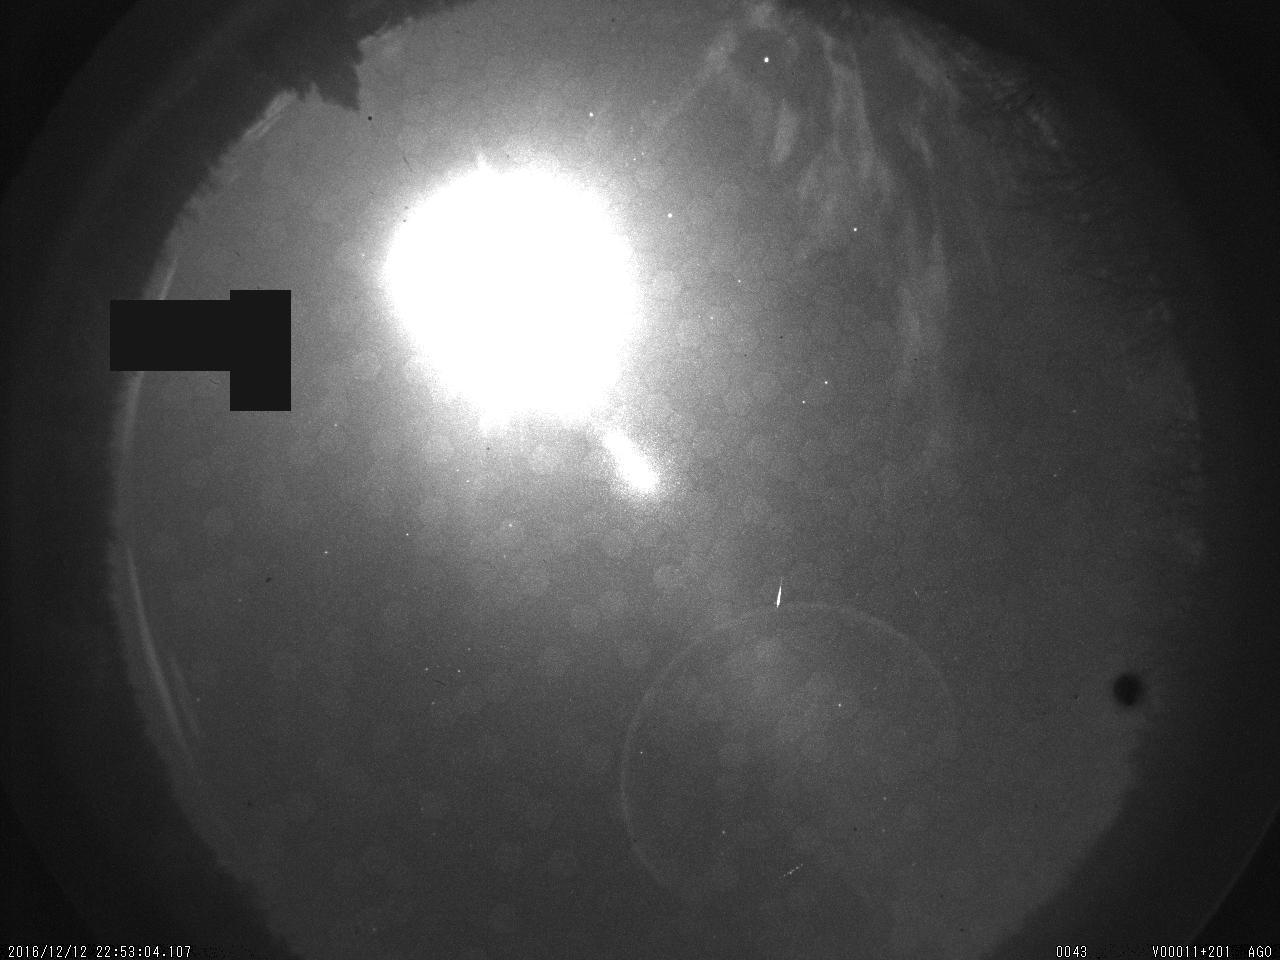Meteor: (766, 571, 788, 618)
